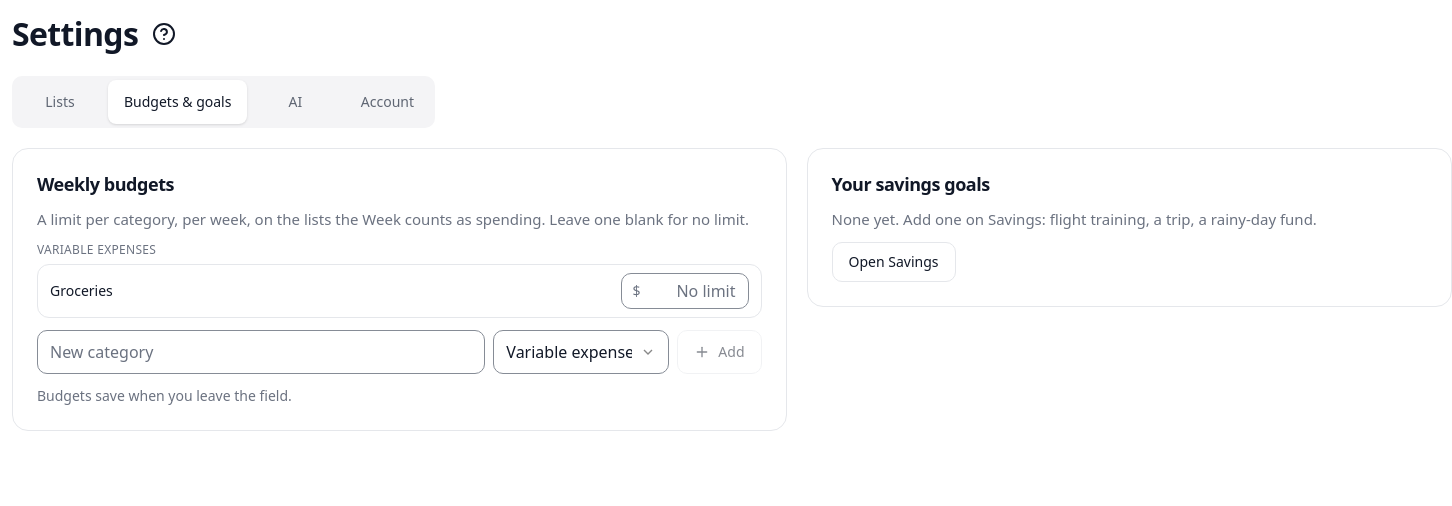
Test: SettingsScreen, adding a category › says a name is already on the list chosen, and keeps what was typed
Expected: the field named "Weekly budget for Groceries" is shown, [620,273,748,309]
In the field with placeholder "New category": (261, 352) [37,330,485,374], type "Groceries"
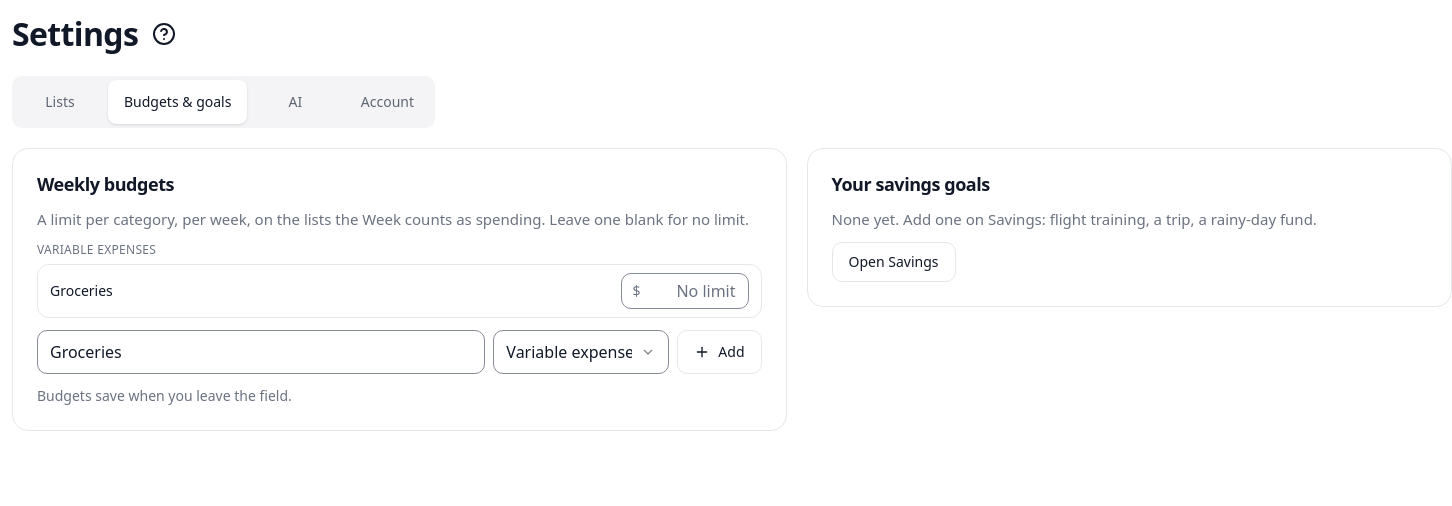
Click the button "Add": (720, 352) [677,330,762,374]
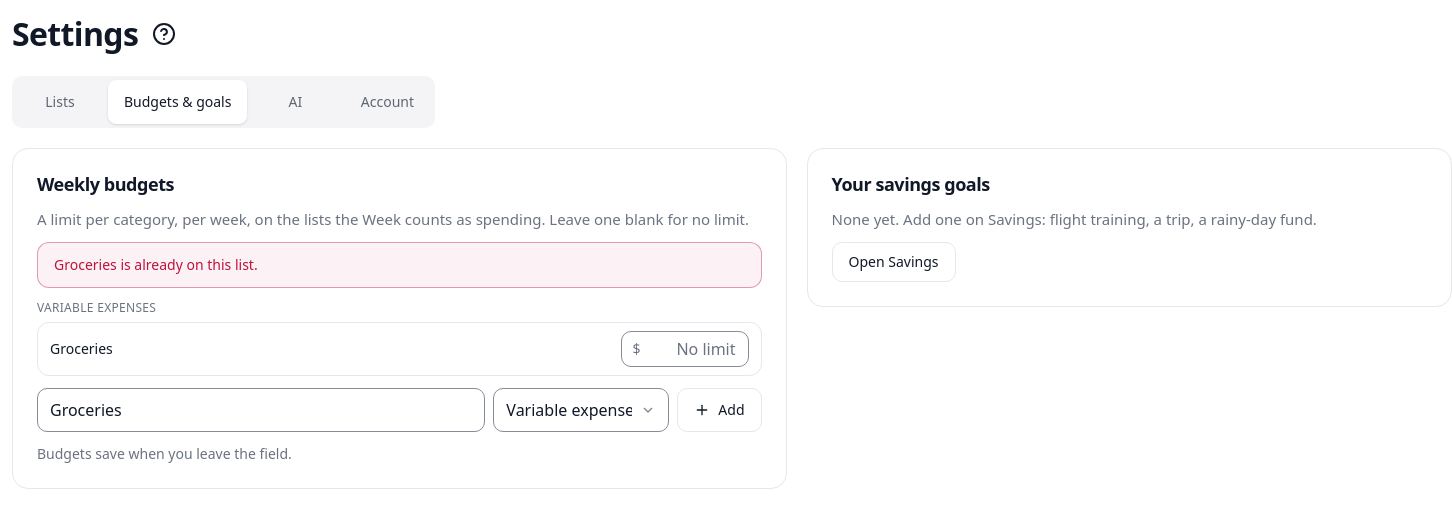
Result: the message reads "Groceries is already on this list." at [54,255,258,274]
